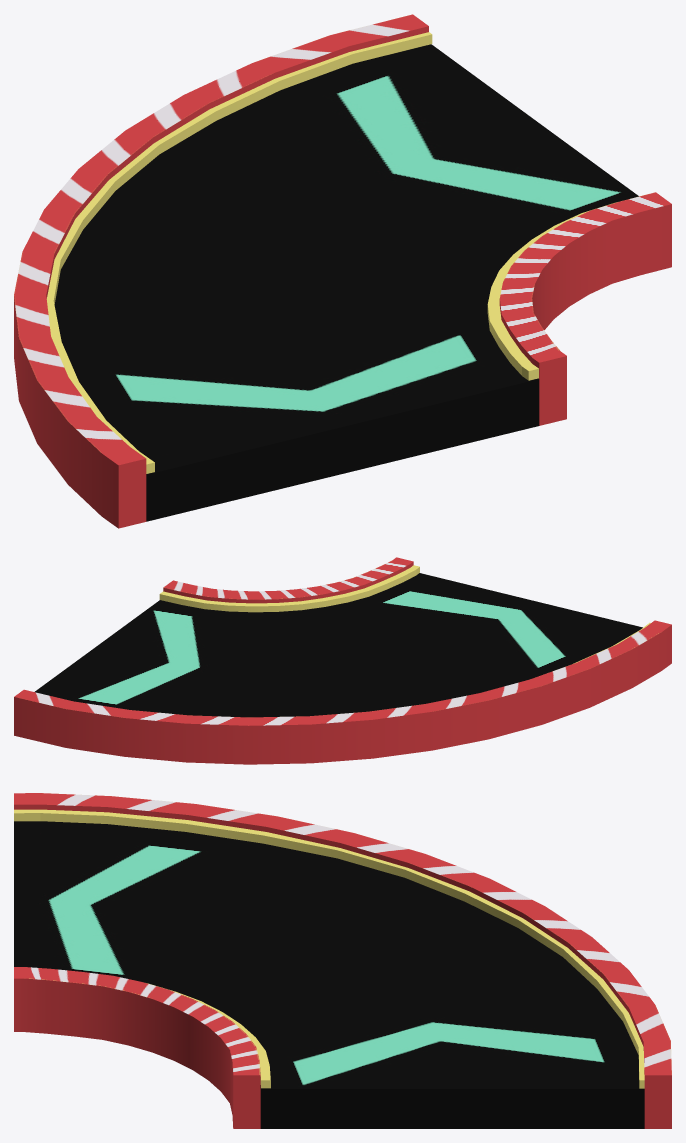
Rendered from Track - Curve.fbx.
The picture shows the model from 3 angles, top to bottom: view 1: azimuth 30°, elevation 25°; view 2: azimuth 150°, elevation 25°; view 3: azimuth 270°, elevation 25°; orthographic projection. The views are drawn at different scales.
Parts seen in each view (by area): view 1: Track - Curve piece; view 2: Track - Curve piece; view 3: Track - Curve piece.
Boxes of the visible parts, left/top/right/bottom form: Track - Curve piece: left=14, top=14, right=671, bottom=528; Track - Curve piece: left=14, top=557, right=671, bottom=764; Track - Curve piece: left=14, top=793, right=671, bottom=1128.
Bounding box in the file's own units: 76.13 × 6.73 × 74.99.
Materials: 1 (1 with a texture image).
